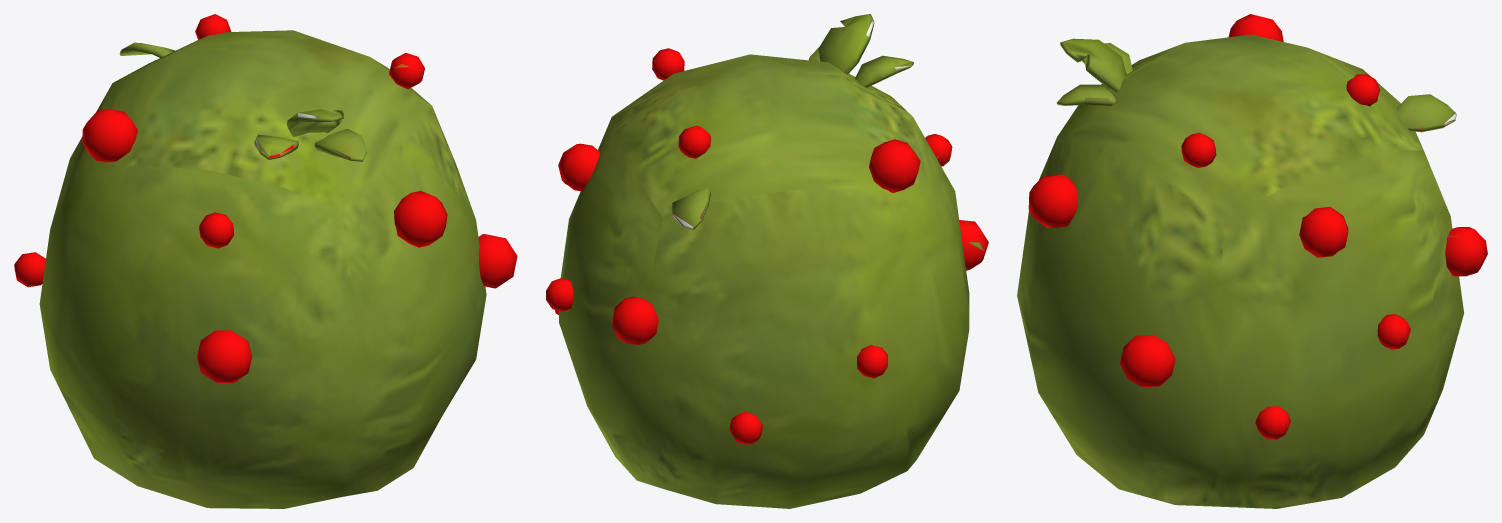
The model's file is arbuato.fbx.
The picture shows the model from 3 angles, left to right: view 1: azimuth 30°, elevation 25°; view 2: azimuth 150°, elevation 25°; view 3: azimuth 270°, elevation 25°; orthographic projection. The views are drawn at different scales.
Visible parts, largest first — view 1: sm_arbusto2; view 2: sm_arbusto2; view 3: sm_arbusto2.
Boxes of the visible parts, left/top/right/bottom form: sm_arbusto2: left=14, top=14, right=517, bottom=508; sm_arbusto2: left=546, top=14, right=988, bottom=508; sm_arbusto2: left=1017, top=14, right=1487, bottom=508.
Bounding box in the file's own units: 137 × 134 × 141.
1 material, 1 textured.
